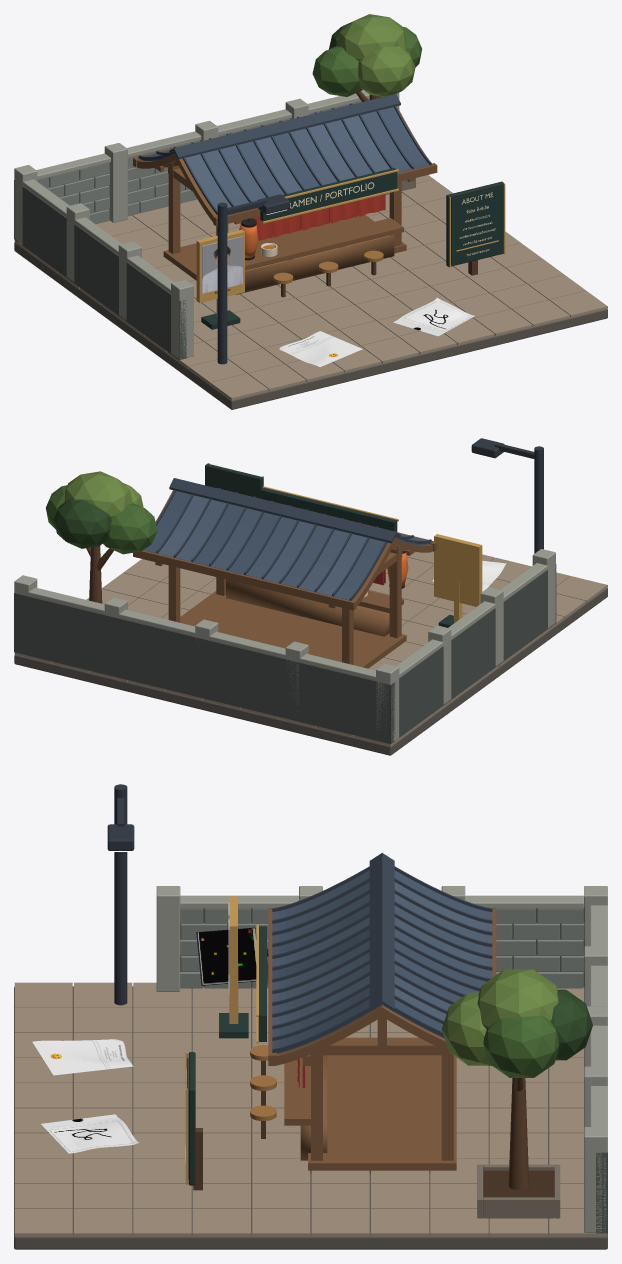
The model's file is rAMENsds.glb.
3 renders of one model, top to bottom at view 1: azimuth 30°, elevation 25°; view 2: azimuth 150°, elevation 25°; view 3: azimuth 270°, elevation 25°, orthographic. The views are drawn at different scales.
Parts seen in each view (by area): view 1: Tile, Wall_left, Plane, PF_Profile_Inset, Wall_Left_Post, Wall_Brick, Wall_Post, Wall_cap, Roof_Ridge_Cap, Cube.008, Cube.007, PF_Header (+28 smaller); view 2: Wall_Back, Tile, Wall_left, Cube, Plane, Wall_cap, Cube.008, Roof_Ridge_Cap, PF_Portrait_Frame, Wall_Post, Wall_Left_Post, Leaves_Back (+28 smaller); view 3: Tile, Cube, Plane, Wall_Brick_Left, Wall_Post, Roof_Ridge_Cap, Leaves_Right, Wall_Brick_Left_Offset, Leaves_Top, Wall_Left_Post, Wall_cap, Wall_left_Cap (+43 smaller).
Boxes of the visible parts, left/top/right/bottom form: Tile: left=14, top=175, right=607, bottom=400; Wall_left: left=22, top=186, right=186, bottom=359; Plane: left=14, top=242, right=607, bottom=409; PF_Profile_Inset: left=451, top=187, right=502, bottom=263; Wall_Left_Post: left=66, top=203, right=193, bottom=358; Wall_Brick: left=37, top=99, right=369, bottom=223; Wall_Post: left=14, top=93, right=399, bottom=244; Wall_cap: left=36, top=90, right=369, bottom=180; Roof_Ridge_Cap: left=169, top=94, right=400, bottom=159; Cube.008: left=235, top=234, right=394, bottom=294; Cube.007: left=245, top=218, right=403, bottom=270; PF_Header: left=260, top=168, right=397, bottom=221; Wall_Back: left=14, top=593, right=395, bottom=743; Tile: left=14, top=551, right=607, bottom=746; Wall_left: left=399, top=564, right=556, bottom=737; Cube: left=180, top=591, right=406, bottom=668; Plane: left=14, top=588, right=607, bottom=755; Wall_cap: left=28, top=587, right=396, bottom=683; Cube.008: left=226, top=579, right=389, bottom=636; Roof_Ridge_Cap: left=169, top=478, right=400, bottom=543; PF_Portrait_Frame: left=434, top=534, right=482, bottom=606; Wall_Post: left=14, top=575, right=399, bottom=740; Wall_Left_Post: left=428, top=549, right=555, bottom=704; Leaves_Back: left=53, top=498, right=111, bottom=548; Tile: left=14, top=982, right=607, bottom=1236; Cube: left=308, top=1037, right=456, bottom=1173; Plane: left=14, top=986, right=607, bottom=1249; Wall_Brick_Left: left=180, top=908, right=583, bottom=988; Wall_Post: left=584, top=886, right=607, bottom=1232; Roof_Ridge_Cap: left=369, top=853, right=394, bottom=1011; Leaves_Right: left=483, top=1015, right=559, bottom=1077; Wall_Brick_Left_Offset: left=181, top=923, right=584, bottom=971; Leaves_Top: left=477, top=969, right=558, bottom=1029; Wall_Left_Post: left=156, top=886, right=465, bottom=991; Wall_cap: left=590, top=905, right=607, bottom=1151; Wall_left_Cap: left=180, top=895, right=584, bottom=908.
Bounding box in the file's own units: 10 × 4.52 × 10.
Materials: 37 (4 with a texture image).
